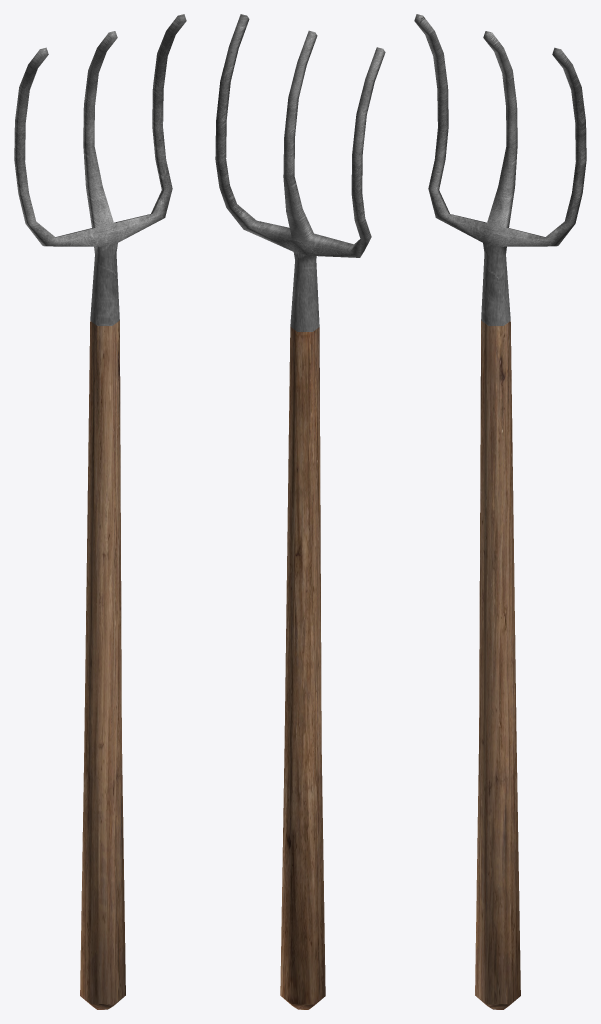
File: Tool_Pitchfork.glb
The picture shows the model from 3 angles, left to right: view 1: azimuth 30°, elevation 25°; view 2: azimuth 150°, elevation 25°; view 3: azimuth 330°, elevation 25°; orthographic projection.
Visible parts, largest first — view 1: Tool_Pitchfork; view 2: Tool_Pitchfork; view 3: Tool_Pitchfork.
Boxes of the visible parts, left/top/right/bottom form: Tool_Pitchfork: left=14, top=14, right=186, bottom=1009; Tool_Pitchfork: left=215, top=14, right=385, bottom=1009; Tool_Pitchfork: left=414, top=14, right=586, bottom=1009.
Size of the model in its own units: 0.2316 by 1.5 by 0.0769.
Materials: 1 (1 with a texture image).
